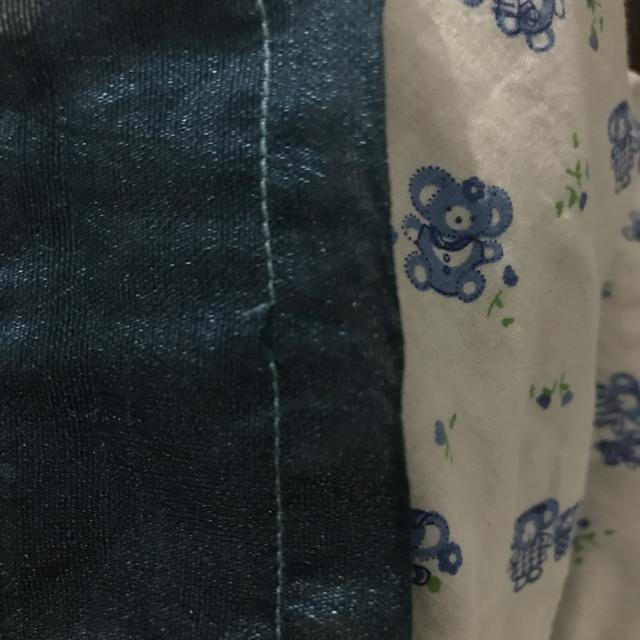broken: (216, 287, 334, 399)
